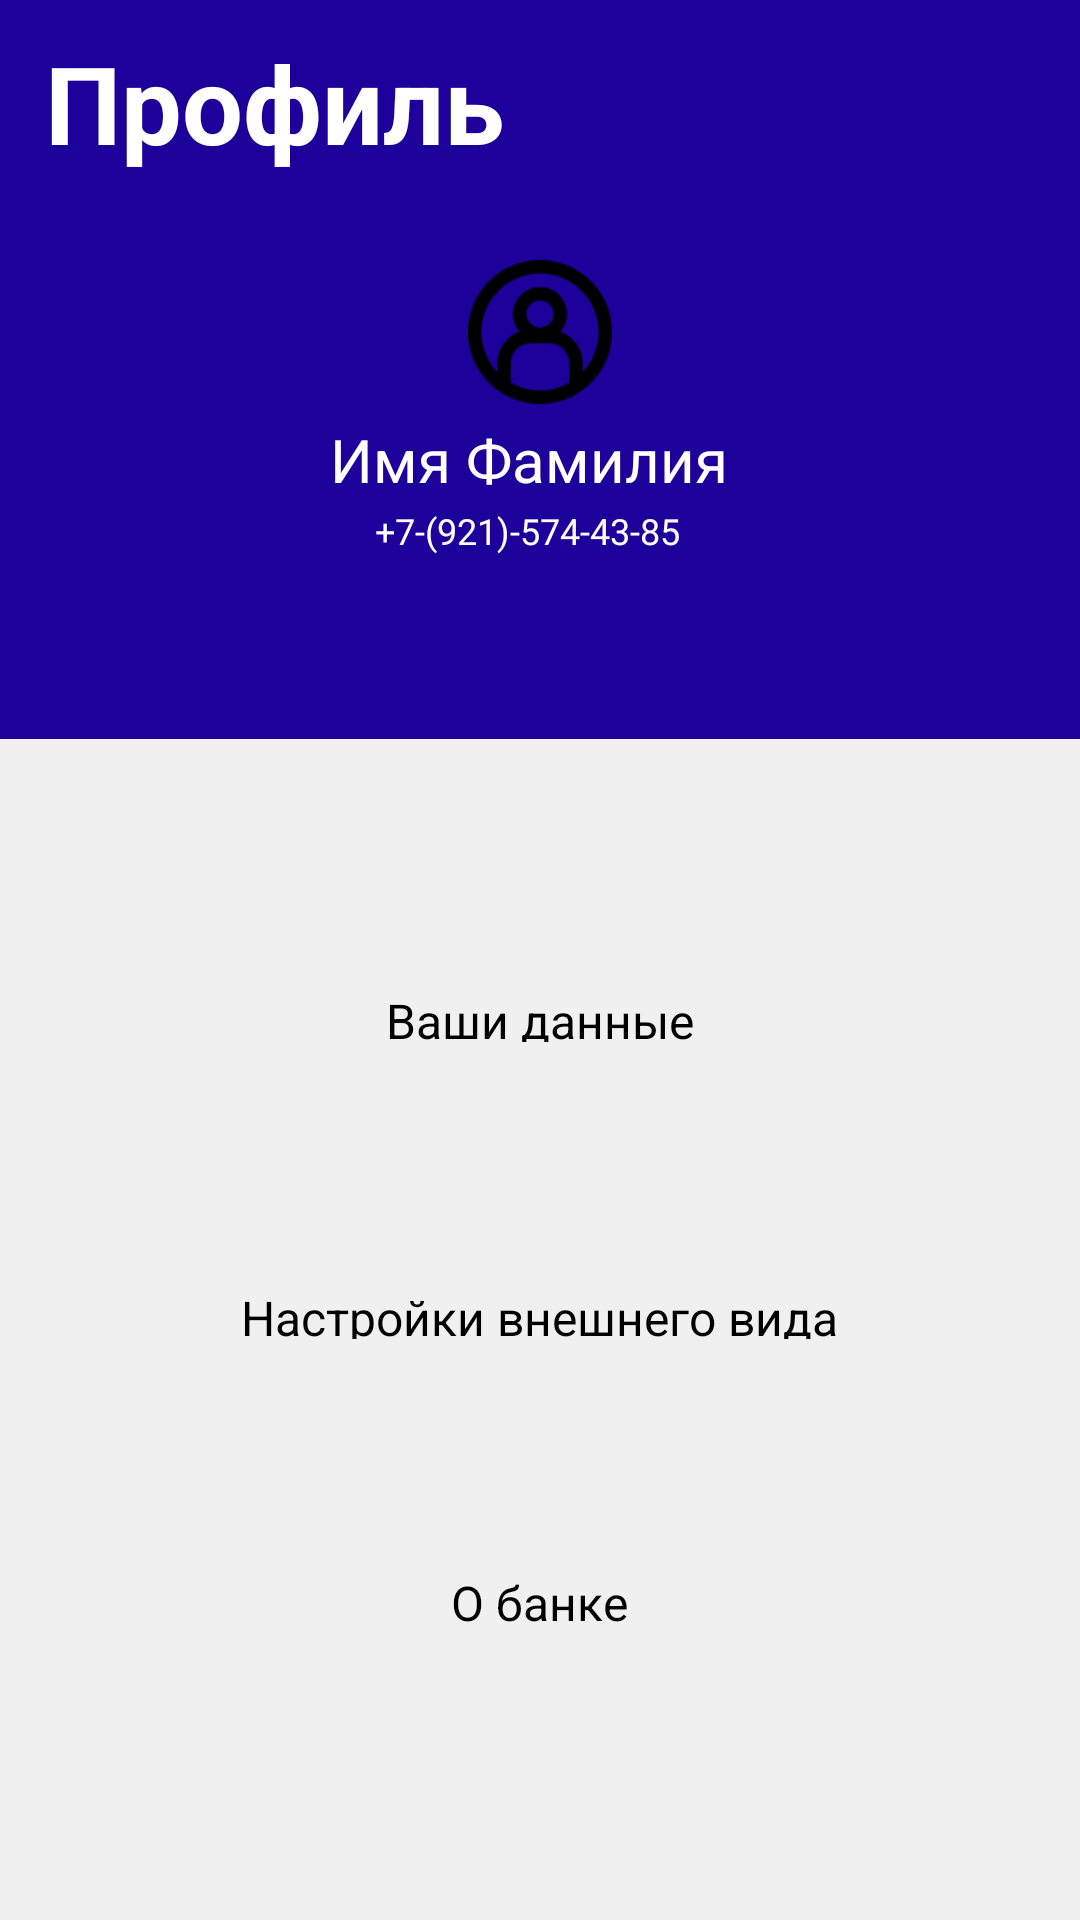

Where to tap for icons on this 1080*1920 app screen, as (x=x, y=y):
pajamas profile: (x=540, y=332)
